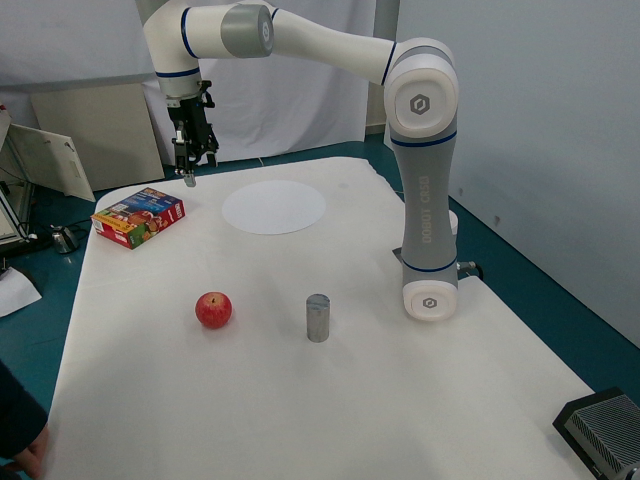apple: (189, 284, 236, 329)
metalROD: (301, 290, 337, 347)
